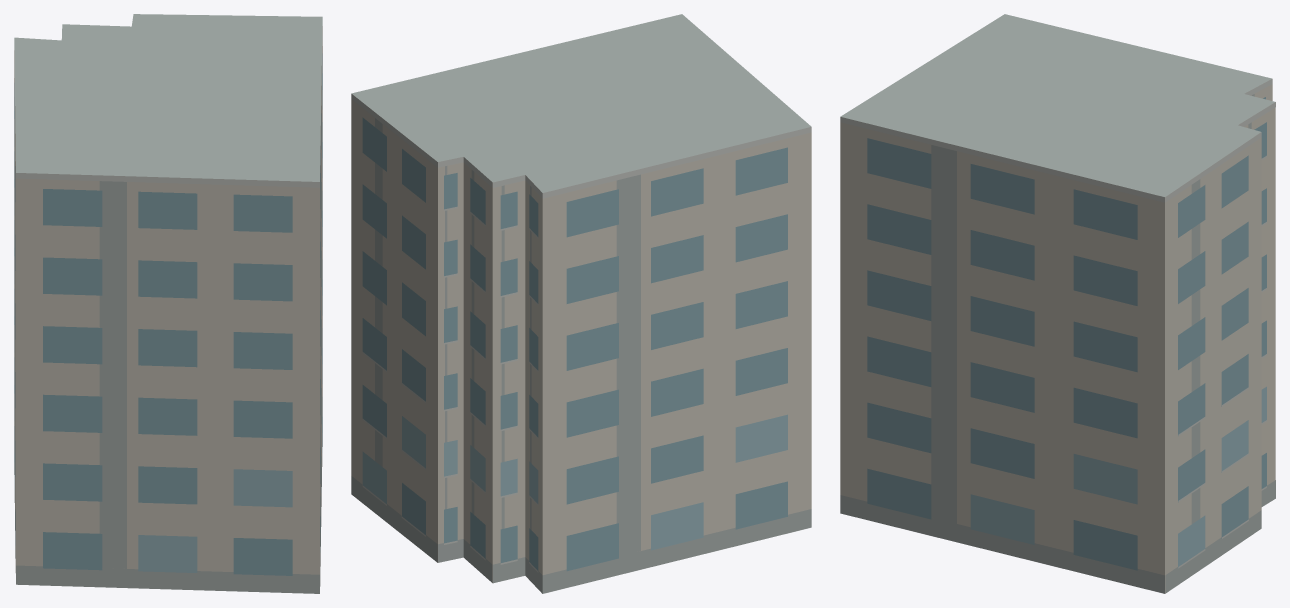
The model's file is survey-upis-32923735.glb.
3 views of the same model, side by side, from view 1: azimuth 30°, elevation 25°; view 2: azimuth 150°, elevation 25°; view 3: azimuth 270°, elevation 25° (orthographic). The views are drawn at different scales.
Parts seen in each view (by area): view 1: survey-upis-32923735.tmp; view 2: survey-upis-32923735.tmp; view 3: survey-upis-32923735.tmp.
Part boxes in pixels (bbox=[...]): survey-upis-32923735.tmp: bbox=[14, 14, 322, 593]; survey-upis-32923735.tmp: bbox=[351, 14, 811, 593]; survey-upis-32923735.tmp: bbox=[840, 14, 1275, 593].
Size of the model in its own units: 17.35 by 17.5 by 17.42.
